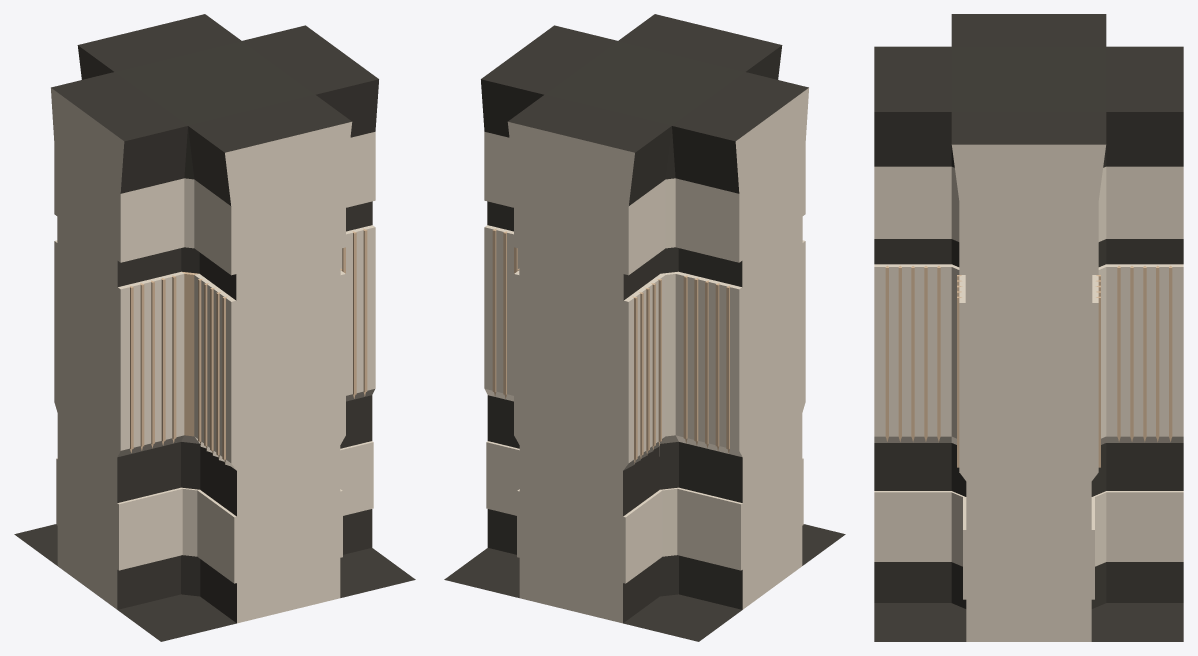
Rendered from 4edge.fbx.
3 renders of one model, left to right at view 1: azimuth 30°, elevation 25°; view 2: azimuth 150°, elevation 25°; view 3: azimuth 270°, elevation 25°, orthographic. The views are drawn at different scales.
Visible parts, largest first — view 1: normal.003; view 2: normal.003; view 3: normal.003.
Boxes of the visible parts, box(x1,y1,x2,y2) form: normal.003: box(14, 14, 415, 641); normal.003: box(444, 14, 845, 641); normal.003: box(874, 14, 1183, 641).
Size of the model in its own units: 200 by 355 by 200.
